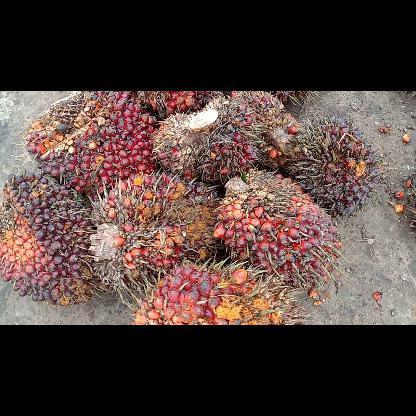TBS masak: (216, 172, 346, 302), (25, 92, 162, 200), (86, 181, 220, 290), (2, 175, 112, 305), (282, 119, 379, 222), (152, 91, 260, 183), (132, 266, 302, 324), (230, 92, 300, 154), (136, 92, 223, 115)
